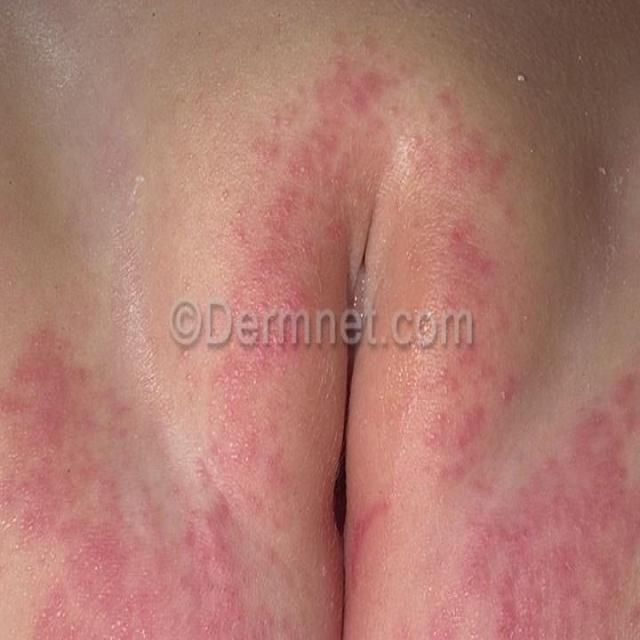Eczema: (8, 62, 633, 640)
